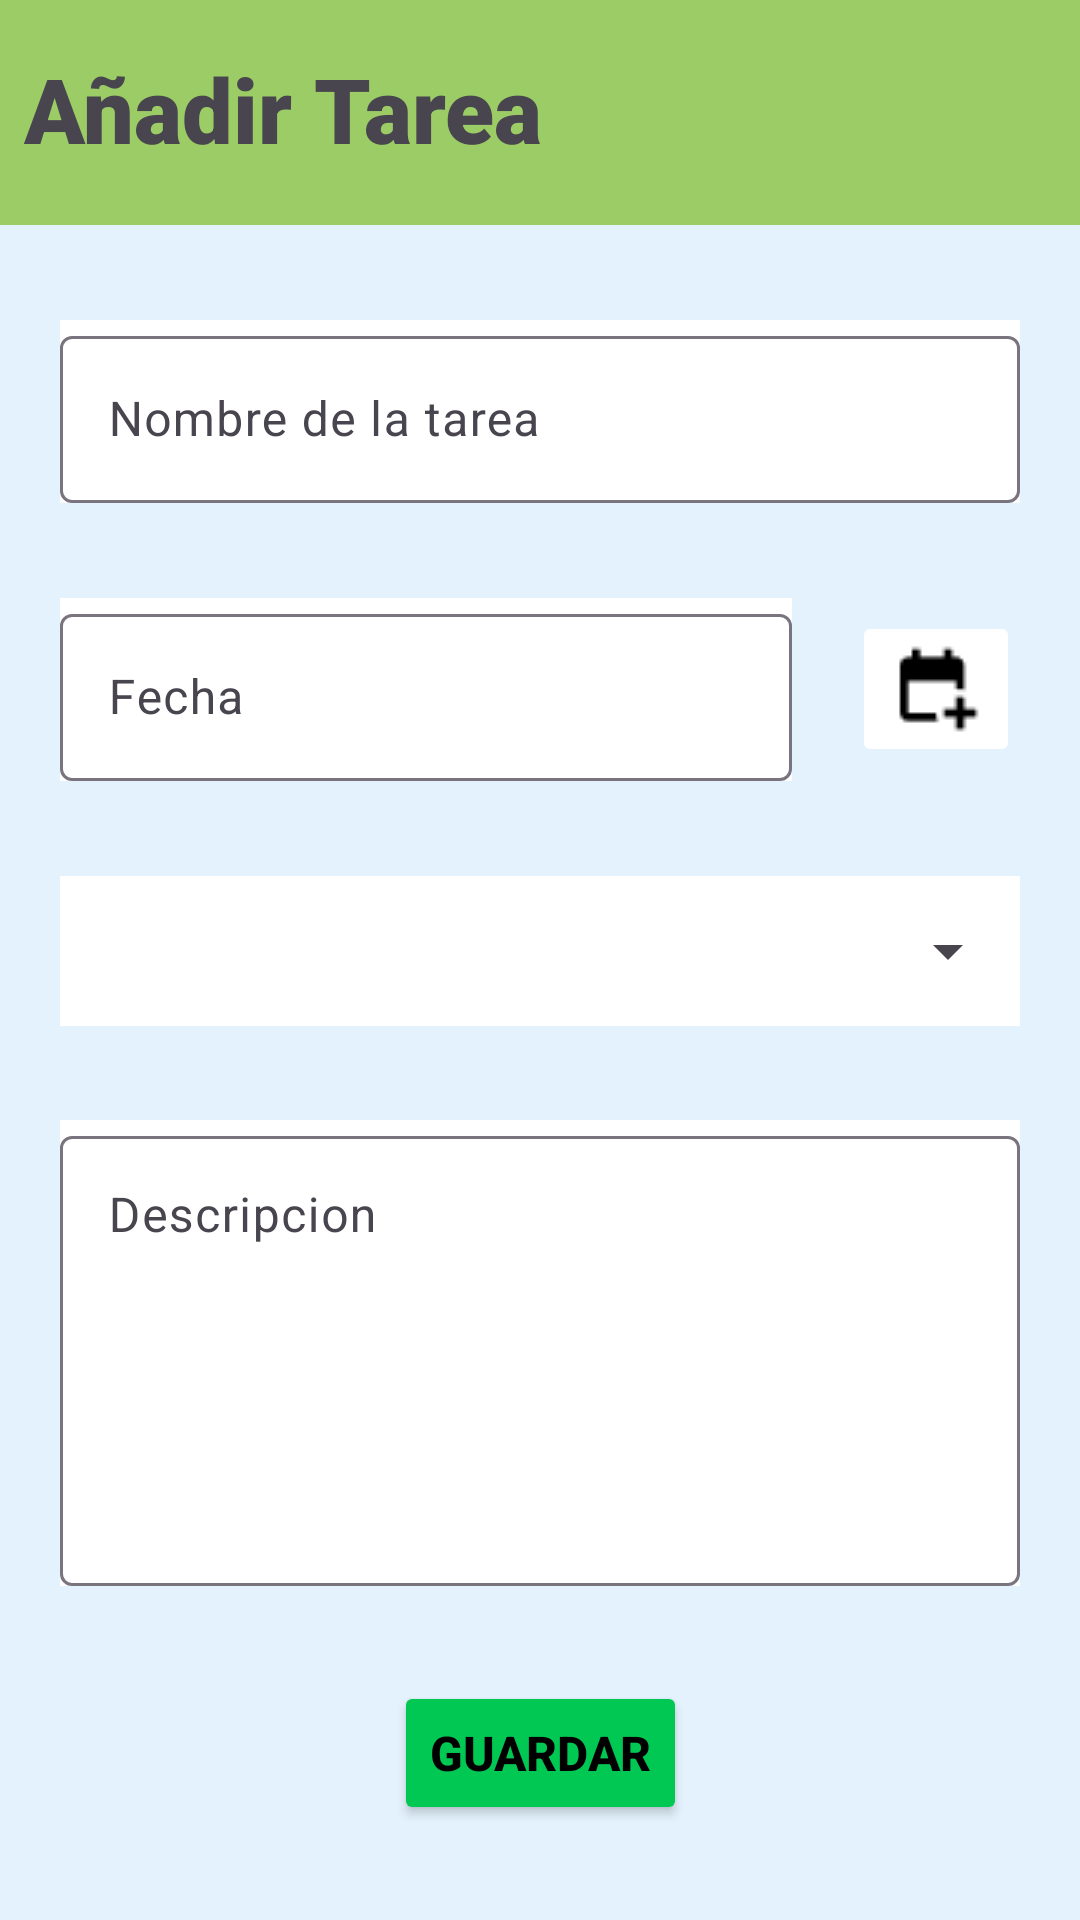

Icons on this 1080 x 1920 Android screen, each with the point to tap as point (x, y):
calendar: point (936, 689)
